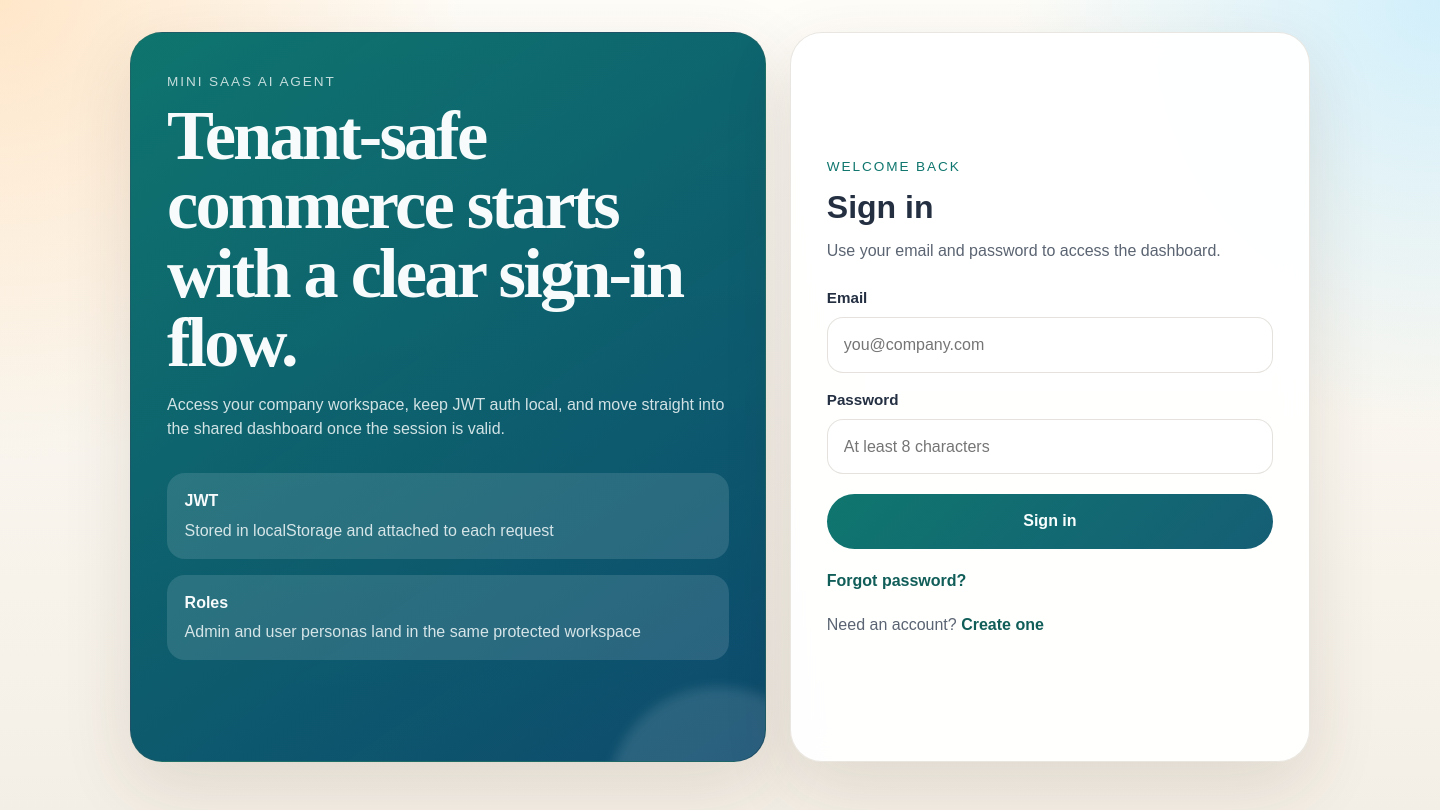
Test: authentication app flow › shows an error when login credentials are invalid
Type "ada@example.com" into the field labelled "Email" at (1050, 345), box [827,317,1273,373]
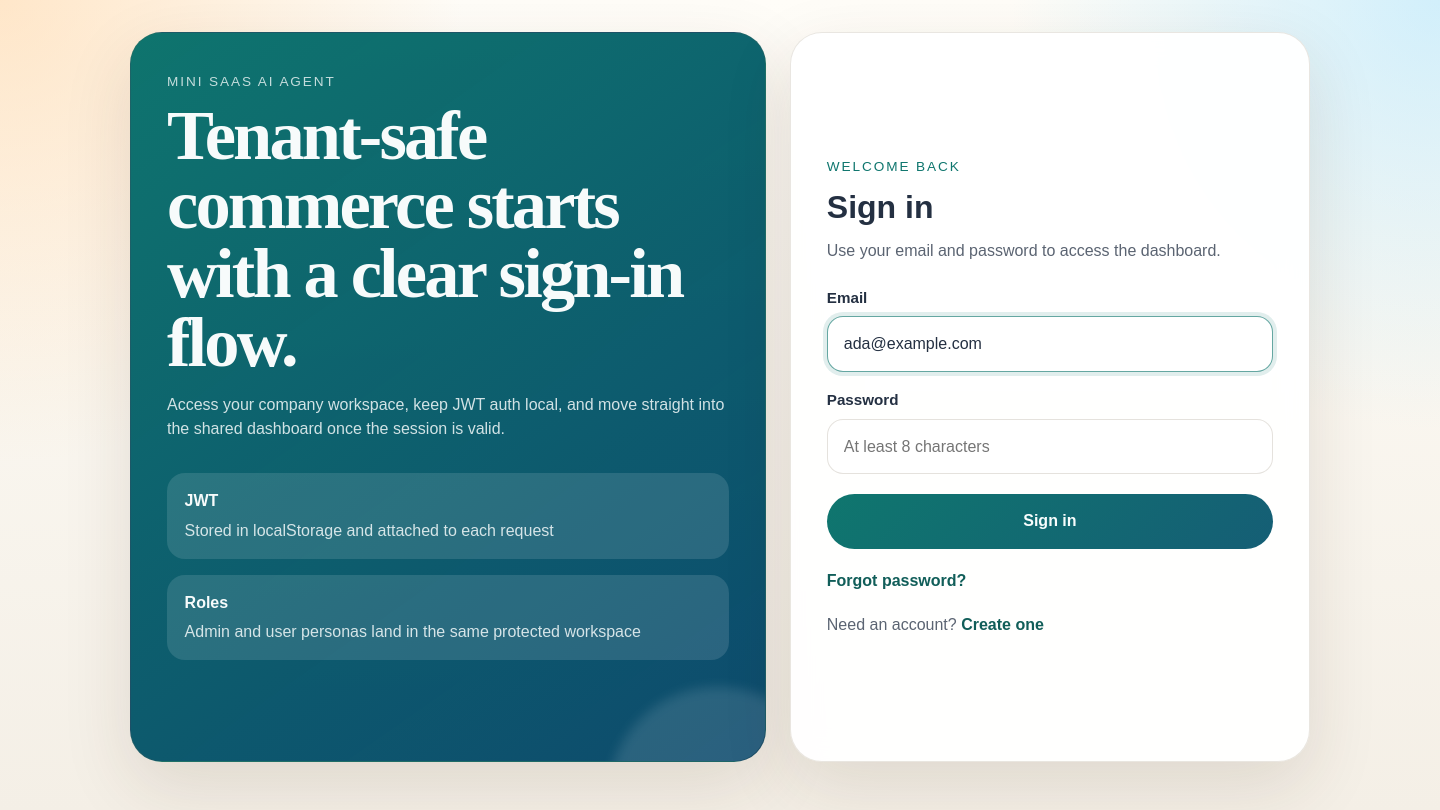
Type "wrongpass" into the password field labelled "Password" at (1050, 446), box [827,419,1273,474]
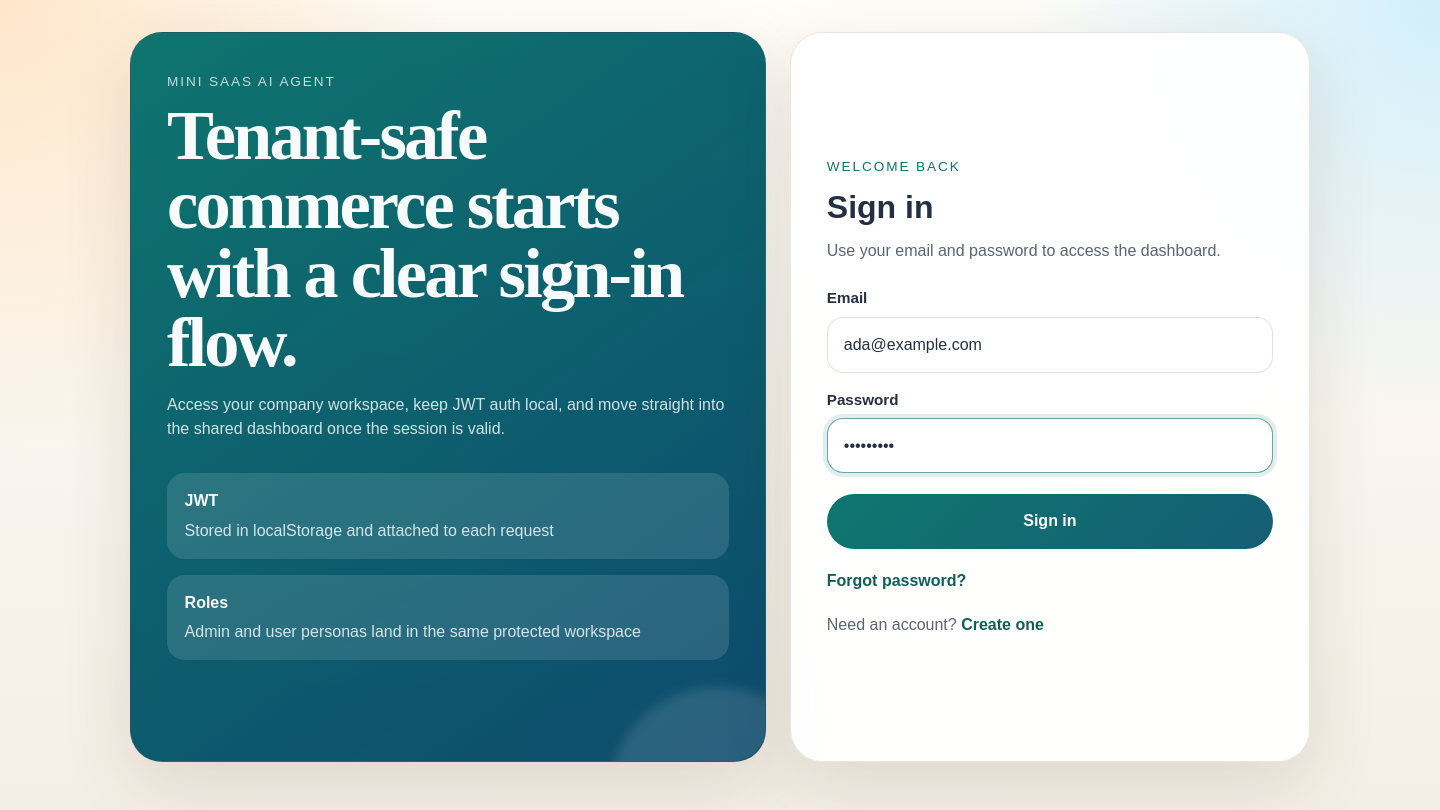
Click the button "Sign in" at (1050, 521), box [827,494,1273,549]
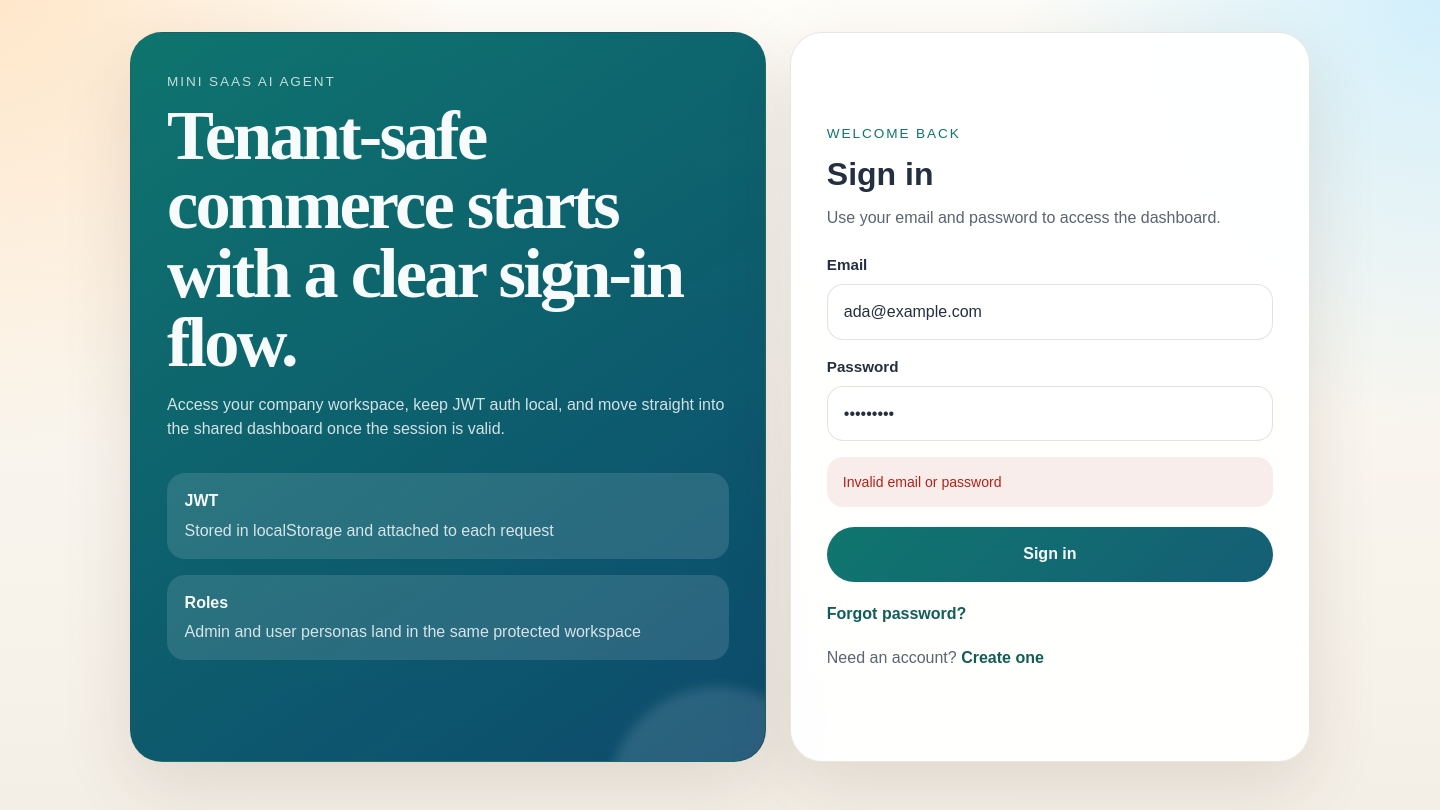
Check: the text "Invalid email or password" is shown, box [827,457,1273,507]
